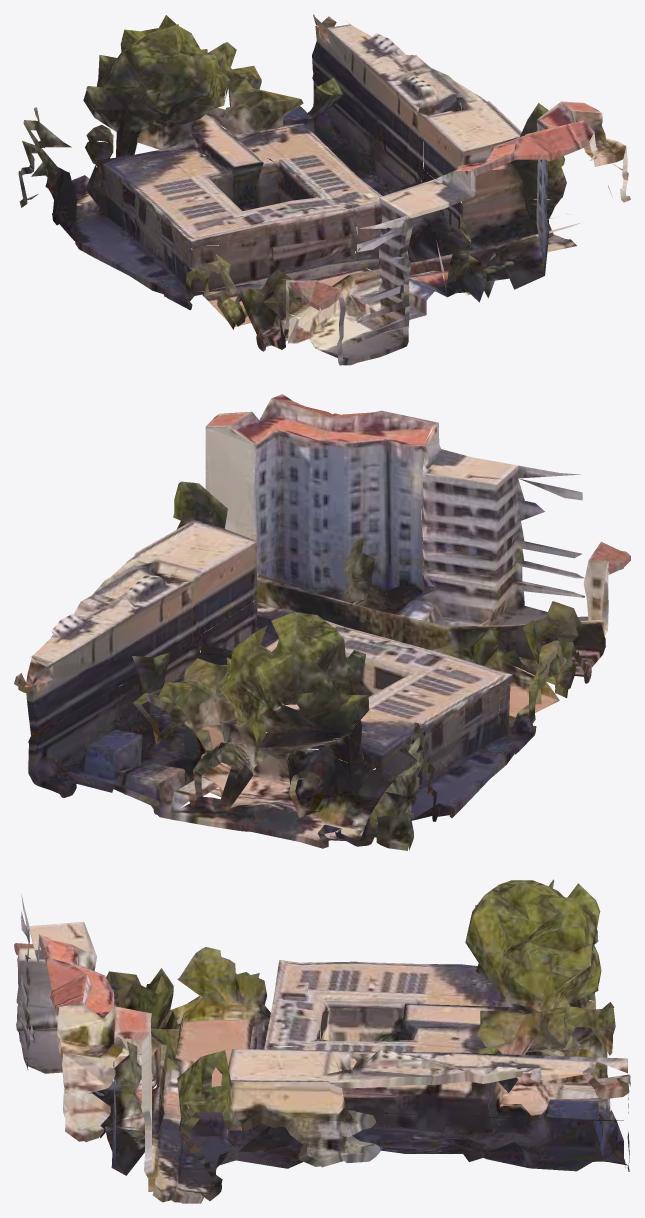
The picture shows the model from 3 angles, top to bottom: view 1: azimuth 30°, elevation 25°; view 2: azimuth 150°, elevation 25°; view 3: azimuth 270°, elevation 25°; orthographic projection. The views are drawn at different scales.
Visible parts, largest first — view 1: Mesh_0; view 2: Mesh_0; view 3: Mesh_0.
Boxes of the visible parts, left/top/right/bottom form: Mesh_0: left=18, top=14, right=630, bottom=365; Mesh_0: left=14, top=394, right=630, bottom=850; Mesh_0: left=14, top=879, right=630, bottom=1203.
Bounding box in the file's own units: 67.77 × 30.97 × 82.53.
Materials: 1 (1 with a texture image).
